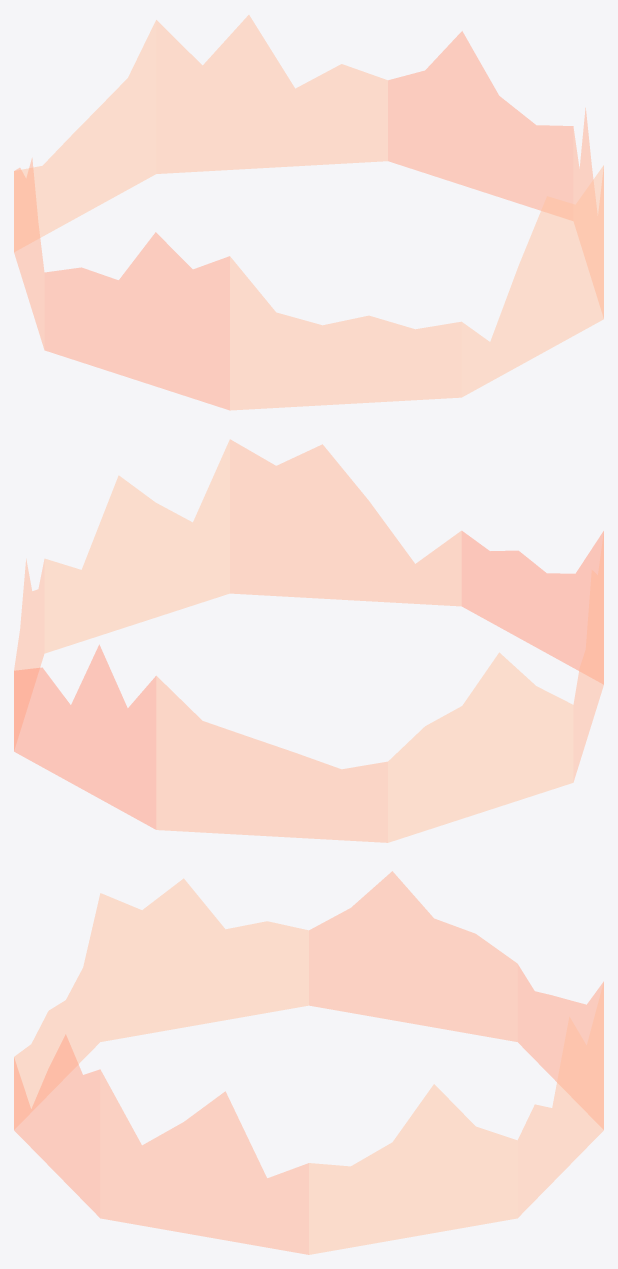
File: red_join_area_active.gltf
3 renders of one model, top to bottom at view 1: azimuth 30°, elevation 25°; view 2: azimuth 150°, elevation 25°; view 3: azimuth 270°, elevation 25°, orthographic. The views are drawn at different scales.
Visible parts, largest first — view 1: Circle.011; view 2: Circle.011; view 3: Circle.011.
Boxes of the visible parts, box(x1,y1,x2,y2) form: Circle.011: box(14, 15, 603, 410); Circle.011: box(14, 439, 603, 842); Circle.011: box(14, 871, 603, 1254).
Bounding box in the file's own units: 4.6 × 1.28 × 4.6.
